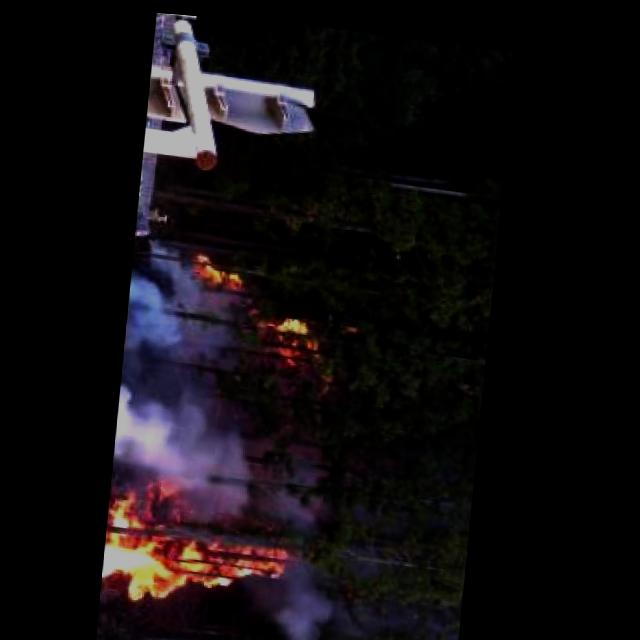Fire: (106, 475, 305, 623), (257, 315, 323, 366), (197, 251, 250, 290)
Smoke: (104, 463, 320, 633), (174, 236, 370, 390)
